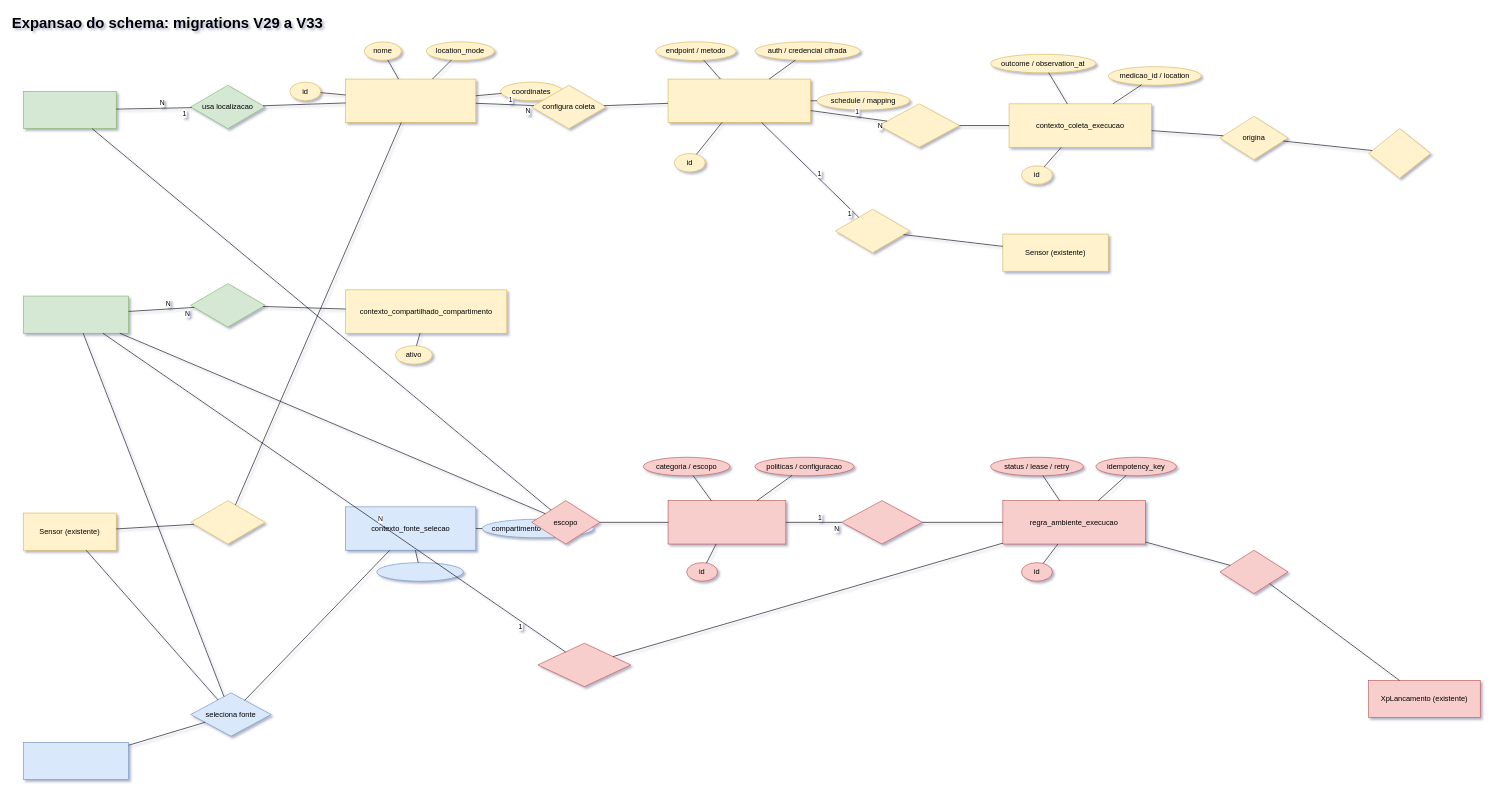
Image size: 1495x794. Some labels were removed from this diagram. The shapes that lost their labels are listed below. From the top down, each one's centre as x and y in pixels, then its label:
At point (69, 110): "Campus (existente)".
At point (410, 100): "contexto_compartilhado".
At point (739, 100): "contexto_integracao_externa".
At point (918, 125): "registra execucao".
At point (1399, 153): "Medicao (existente)".
At point (872, 231): "usa sensor".
At point (76, 314): "Compartimento (existente)".
At point (227, 305): "cobre".
At point (227, 522): "vincula sensor".
At point (726, 522): "regra_ambiente".
At point (881, 522): "gera execucao".
At point (419, 571): "validade_segundos".
At point (1253, 572): "concede XP".
At point (584, 665): "execucao em sala".
At point (76, 761): "ParametroDef (existente)".
